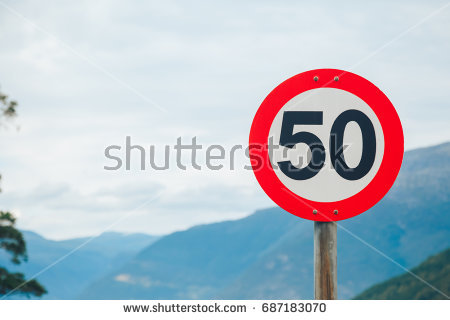Speed_limit_50km: (250, 67, 406, 222)
